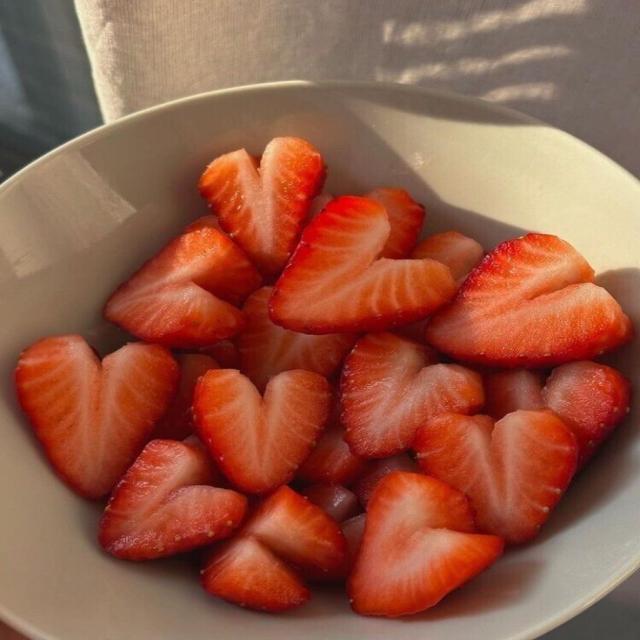strawberry sliced: (426, 234, 632, 367), (15, 336, 179, 498), (270, 197, 455, 334), (348, 472, 503, 616), (414, 410, 577, 542), (105, 216, 260, 348), (202, 486, 346, 612), (340, 333, 484, 457), (100, 440, 246, 560), (199, 137, 325, 273), (194, 370, 331, 493), (485, 361, 630, 467), (237, 287, 357, 390), (542, 361, 630, 466), (241, 486, 346, 570), (201, 537, 310, 612), (297, 398, 366, 485), (153, 354, 219, 440), (365, 188, 425, 258), (306, 513, 366, 582), (411, 232, 484, 286), (411, 232, 484, 284), (354, 453, 419, 508), (484, 370, 545, 420), (302, 484, 361, 522), (340, 513, 366, 577), (200, 340, 239, 369), (309, 192, 333, 219)
